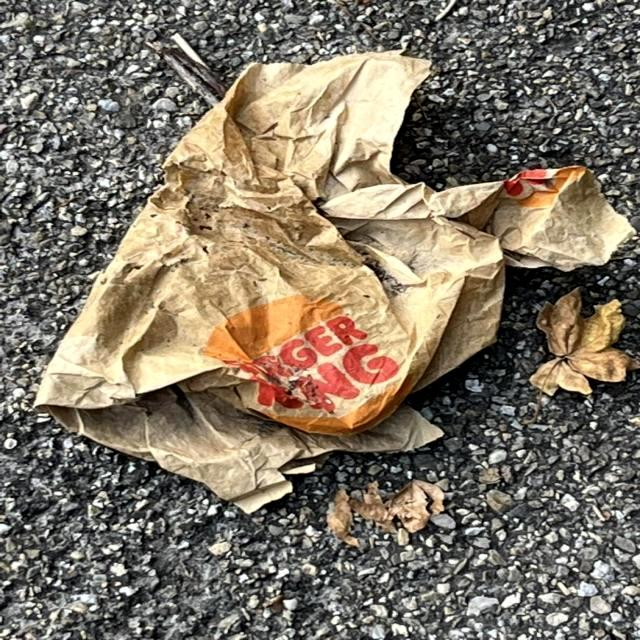Paper: (27, 45, 638, 523)
